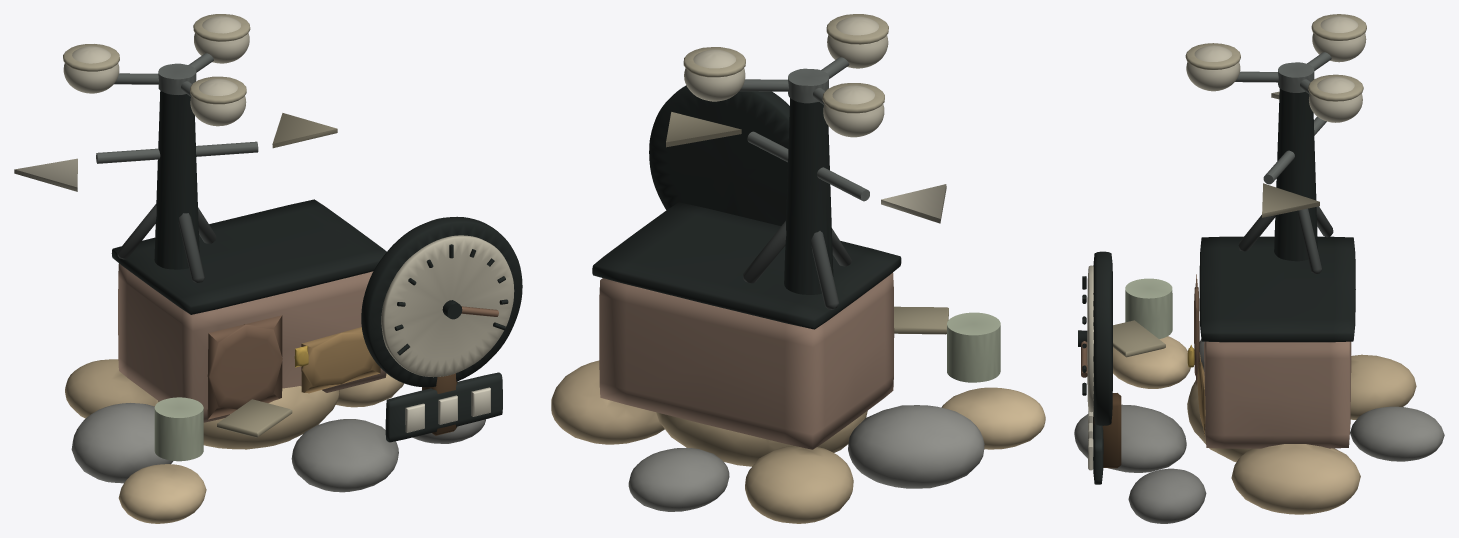
The model's file is storm_station_a.glb.
The picture shows the model from 3 angles, left to right: view 1: azimuth 30°, elevation 25°; view 2: azimuth 150°, elevation 25°; view 3: azimuth 270°, elevation 25°; orthographic projection. The views are drawn at different scales.
Visible parts, largest first — view 1: Surface; view 2: Surface; view 3: Surface.
Part boxes in pixels (bbox=[...]): Surface: bbox=[14, 14, 522, 523]; Surface: bbox=[551, 14, 1045, 523]; Surface: bbox=[1074, 14, 1444, 523].
Bounding box in the file's own units: 4.66 × 4.52 × 4.02.
